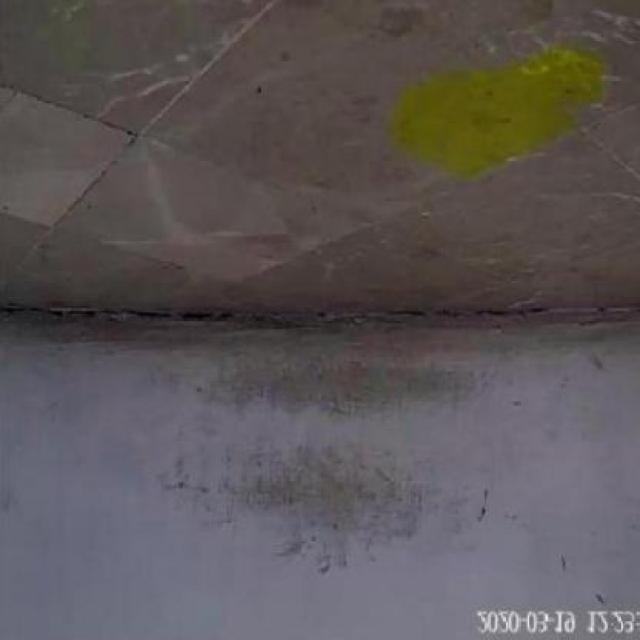spillage: (385, 41, 607, 177)
